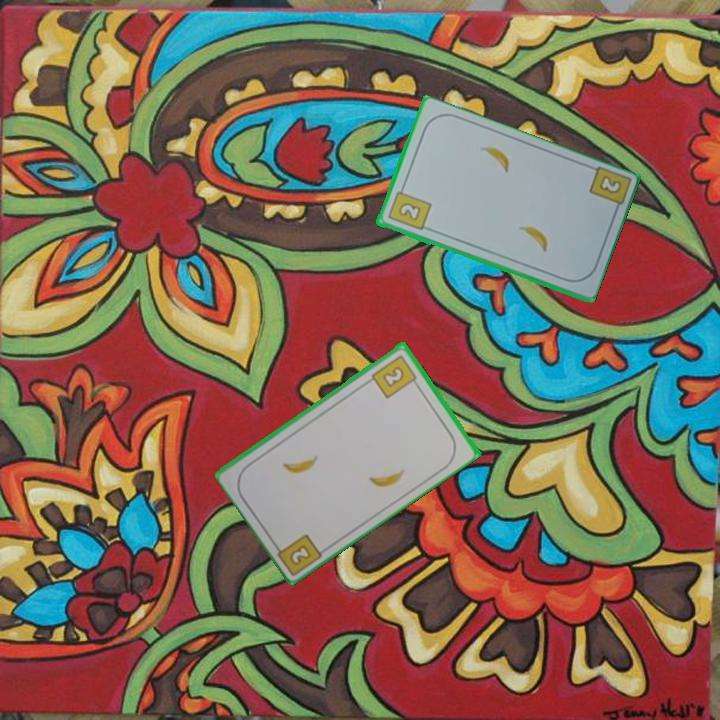2b: (368, 351, 420, 401), (384, 183, 434, 234), (286, 541, 314, 568), (595, 172, 624, 197)
